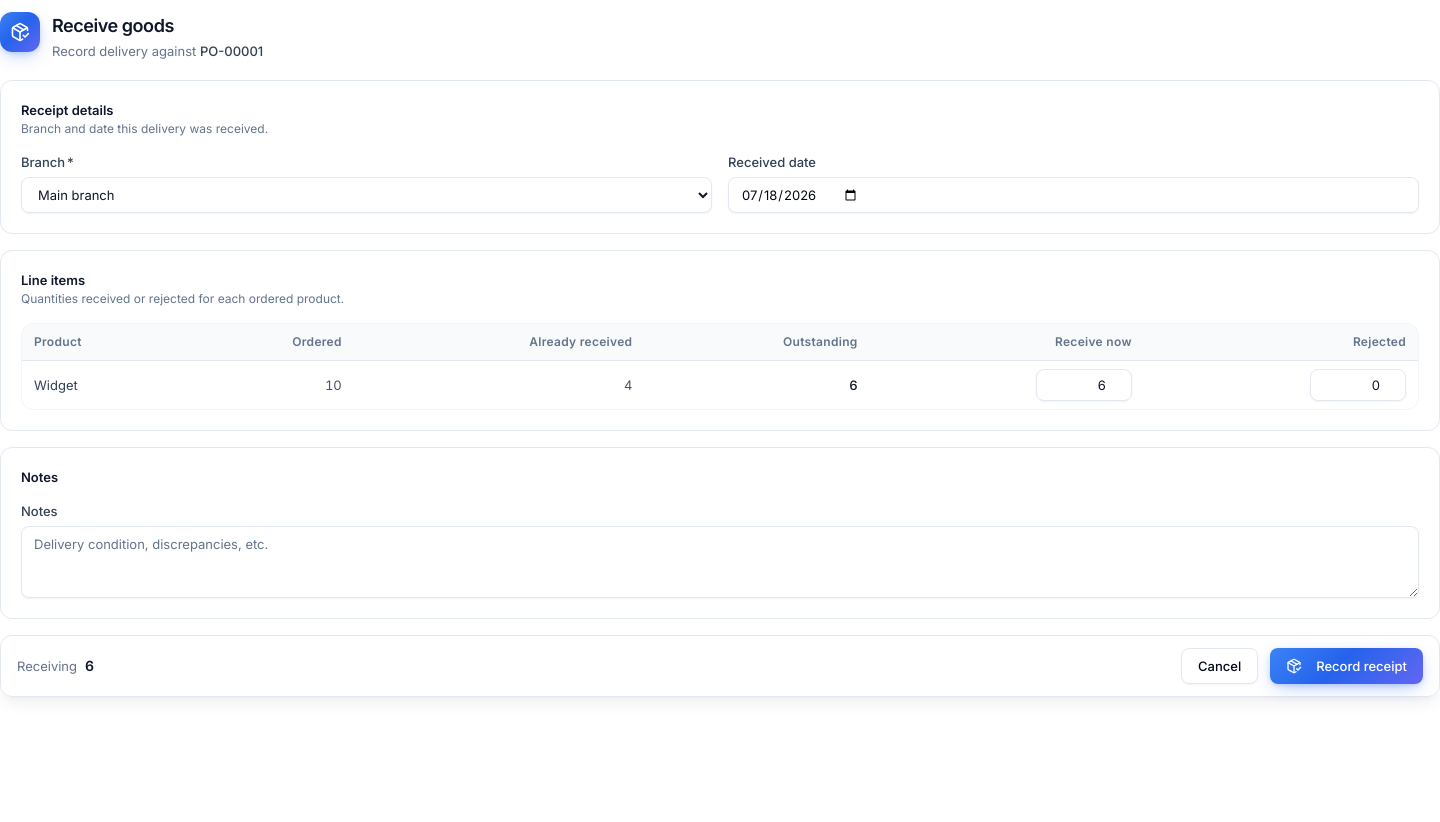
it: GoodsReceiptForm › surfaces a server error returned by the action
Click the button "Record receipt".
click(1347, 666)  # box [1270,648,1423,684]
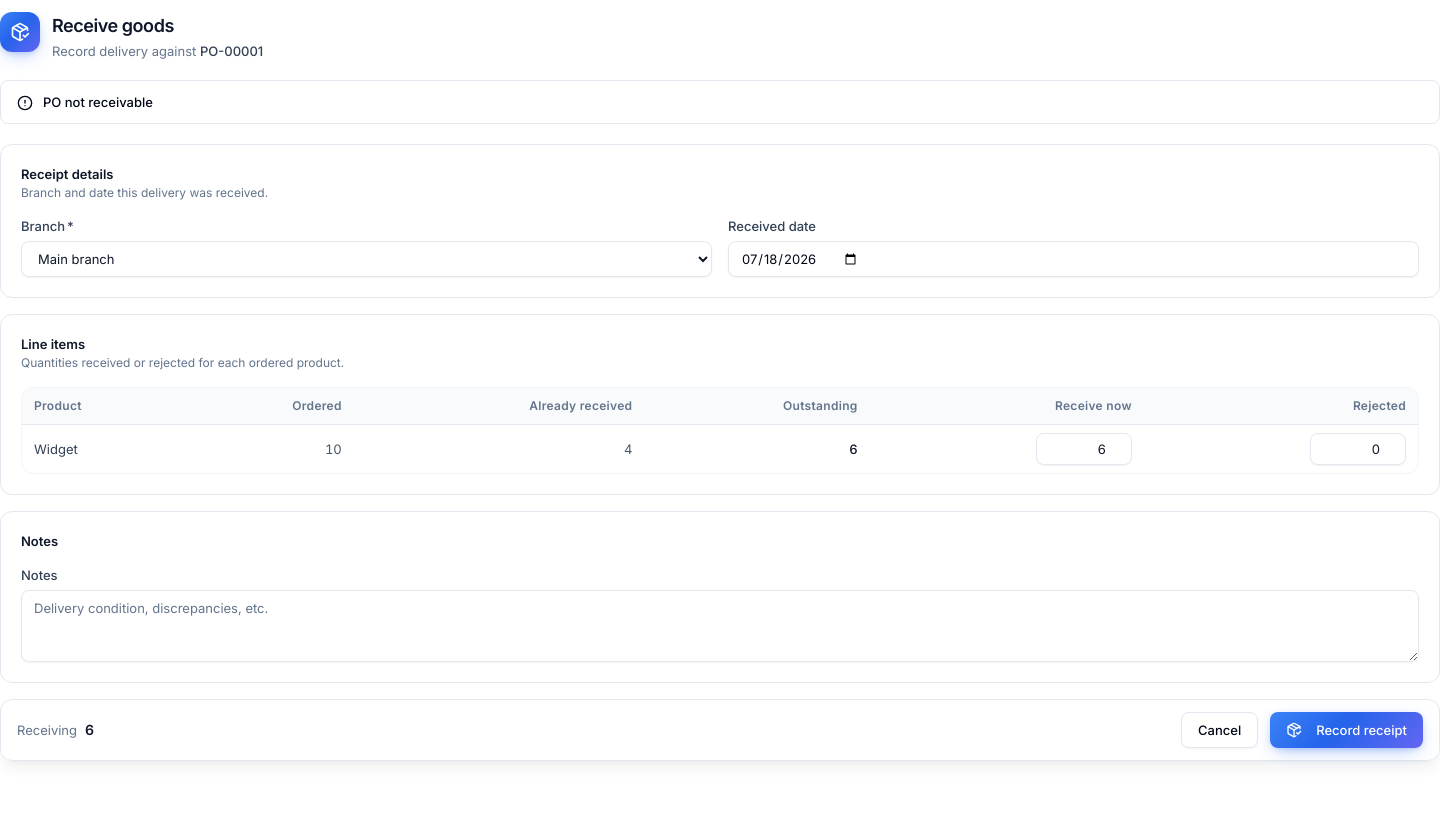
Now the text "PO not receivable" is shown, box [43,93,153,111]
